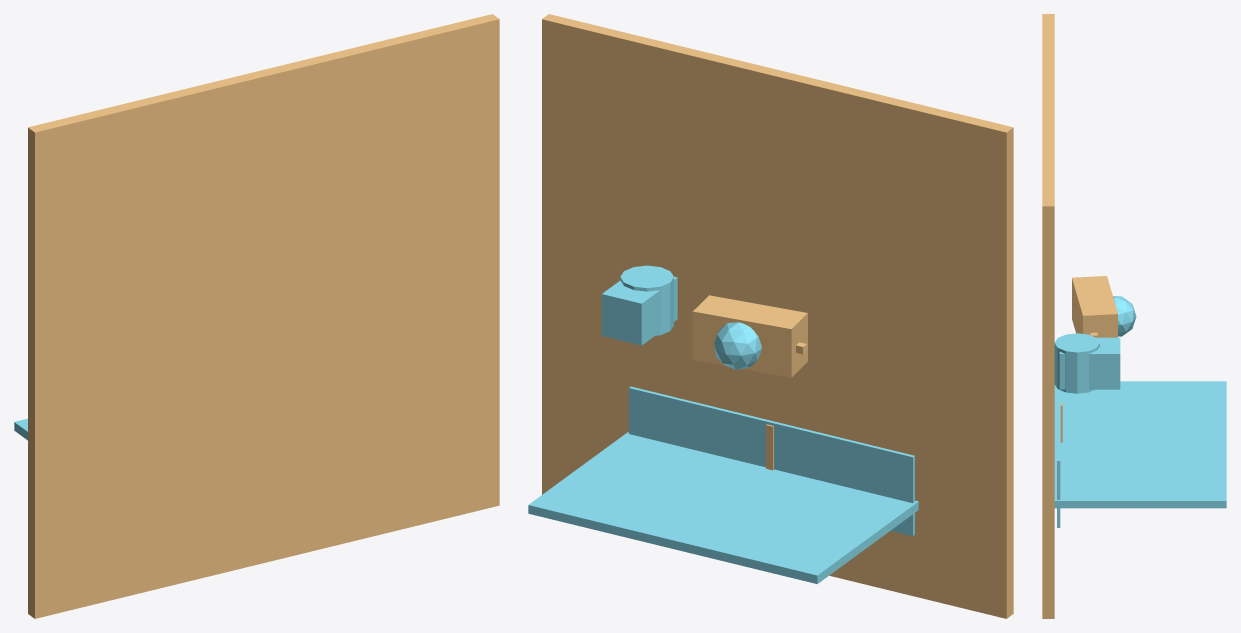
File: street-drift-underground-kit.glb
3 renders of one model, left to right at view 1: azimuth 30°, elevation 25°; view 2: azimuth 150°, elevation 25°; view 3: azimuth 270°, elevation 25°, orthographic. The views are drawn at different scales.
Parts seen in each view (by area): view 1: ENVIRONMENT_GROUND; view 2: ENVIRONMENT_GROUND, ENVIRONMENT_GATE, PROFILE_ENVIRONMENT_DETAIL, PLAYER_BODY, PROFILE_OBSTACLE_DETAIL, OBSTACLE, PLAYER_CORE; view 3: ENVIRONMENT_GATE, ENVIRONMENT_GROUND, PLAYER_BODY, OBSTACLE, PROFILE_OBSTACLE_DETAIL, PLAYER_CORE, PROFILE_ENVIRONMENT_DETAIL.
Boxes of the visible parts, bbox=[...] form: ENVIRONMENT_GROUND: bbox=[28, 14, 499, 618]; ENVIRONMENT_GROUND: bbox=[542, 14, 1013, 618]; ENVIRONMENT_GATE: bbox=[528, 432, 918, 584]; PROFILE_ENVIRONMENT_DETAIL: bbox=[628, 386, 914, 536]; PLAYER_BODY: bbox=[692, 295, 807, 377]; PROFILE_OBSTACLE_DETAIL: bbox=[601, 276, 677, 345]; OBSTACLE: bbox=[620, 265, 673, 335]; PLAYER_CORE: bbox=[714, 322, 761, 369]; ENVIRONMENT_GATE: bbox=[1054, 381, 1226, 508]; ENVIRONMENT_GROUND: bbox=[1042, 14, 1054, 618]; PLAYER_BODY: bbox=[1072, 276, 1117, 337]; OBSTACLE: bbox=[1054, 333, 1099, 393]; PROFILE_OBSTACLE_DETAIL: bbox=[1059, 337, 1120, 389]; PLAYER_CORE: bbox=[1113, 296, 1136, 336]; PROFILE_ENVIRONMENT_DETAIL: bbox=[1057, 388, 1060, 527].
Size of what is drawn, in the model's own units: 9 by 9 by 3.64.
